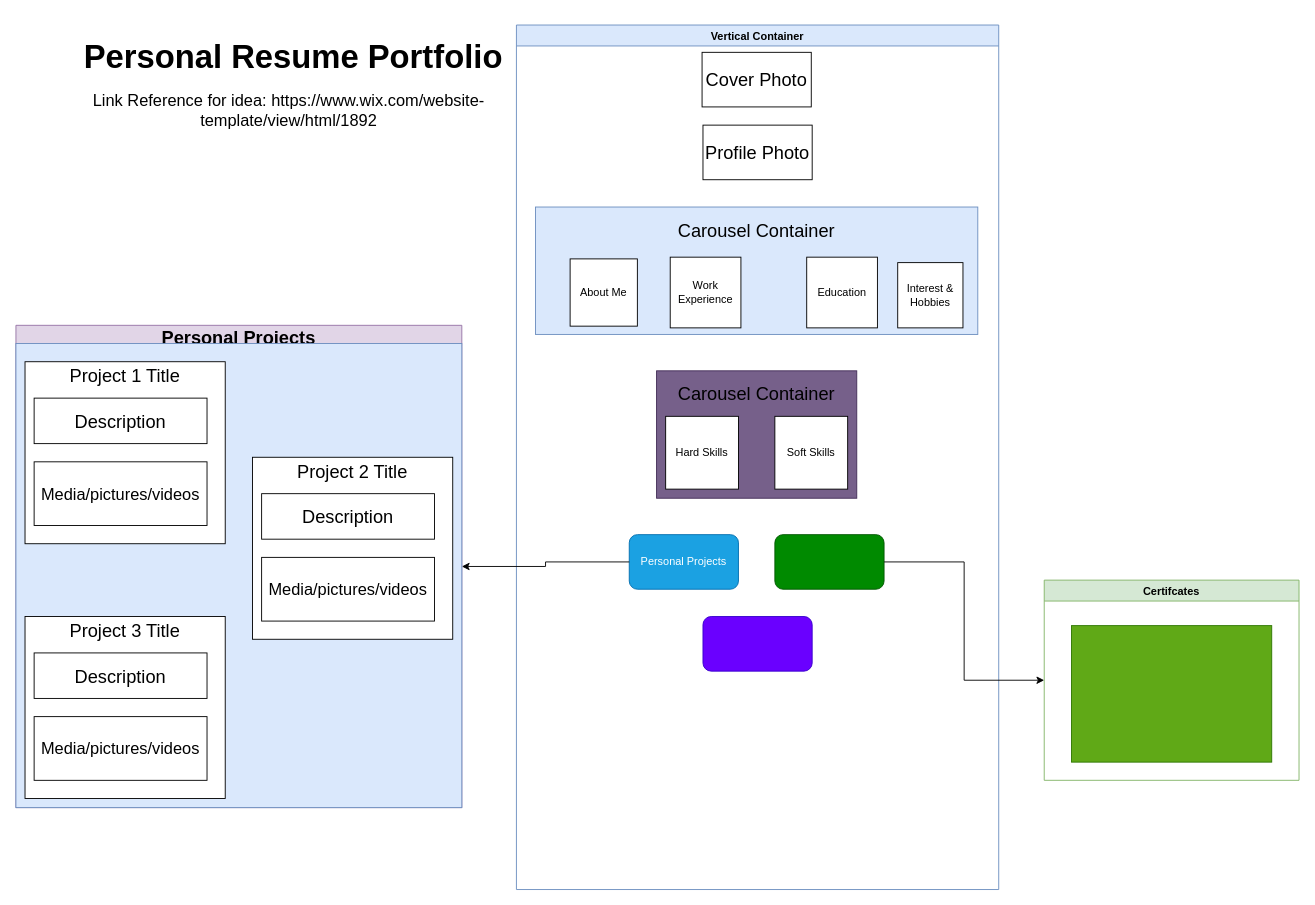
The diagram is 1315 pixels wide and 905 high, and some of its shapes have lost their labels. The centre of each missing label's shape, as x and y in pixels:
"Carousel View of Certifcates" belongs at [1171,693].
"Certificates" belongs at [829,561].
"Quick ID / Contacts" belongs at [757,643].
